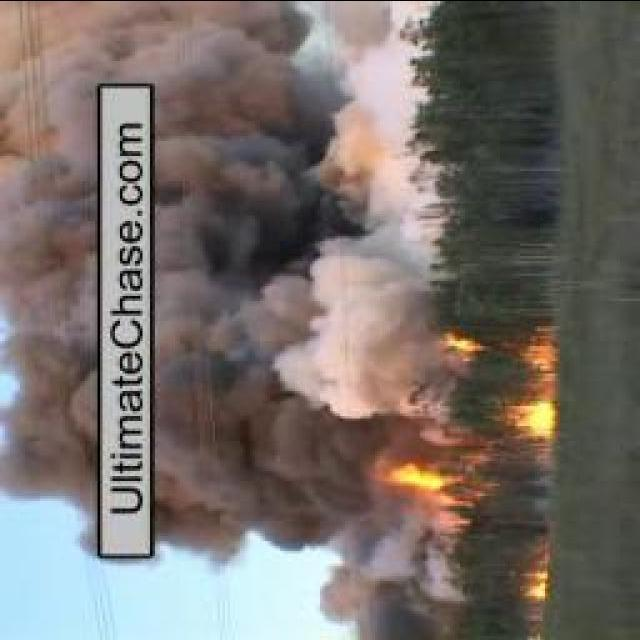Fire: (431, 328, 554, 359), (491, 398, 559, 448), (377, 456, 460, 486), (524, 562, 546, 606)
